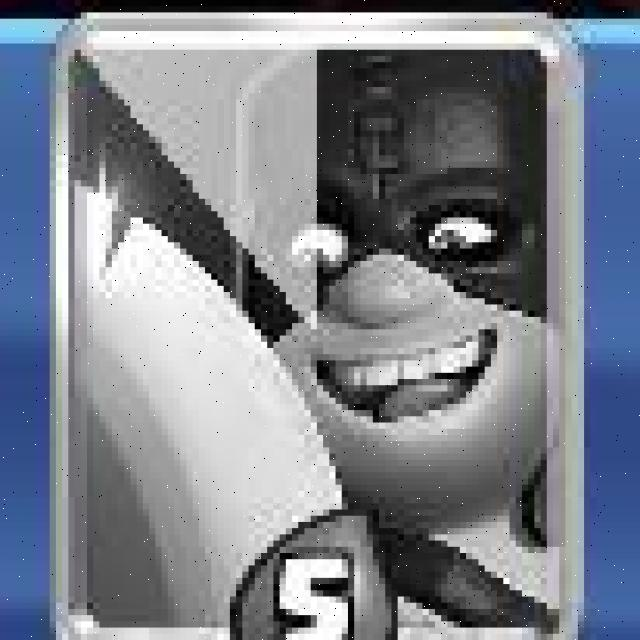Executioner: (47, 9, 583, 640)
